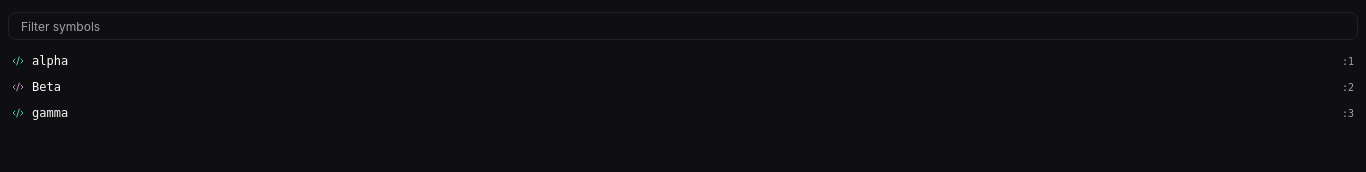
Test: OutlinePanel › lists symbols of the active file and filters them
Check: the text "alpha" is shown, box [32,52,68,70]
Check: the text "Beta" is shown, box [32,78,61,96]
Type "bet" into the field with placeholder "Filter symbols". click: (683,26)
box: [8,12,1358,40]
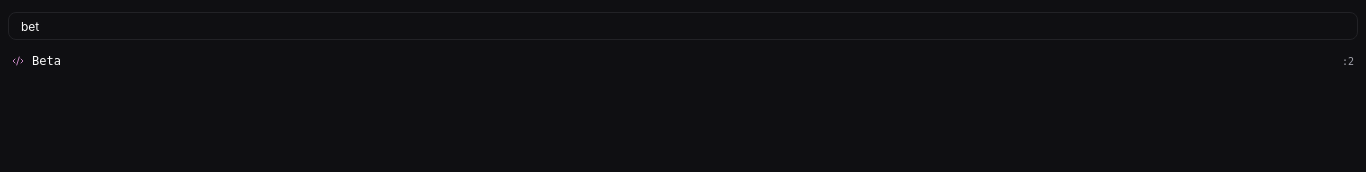
Check: the text "Beta" is shown, box [32,52,61,70]
Check: the button "alpha" is gone
